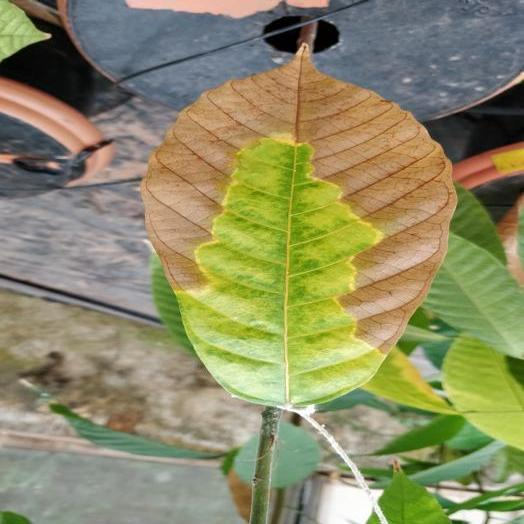Potassium: (142, 45, 455, 407)
